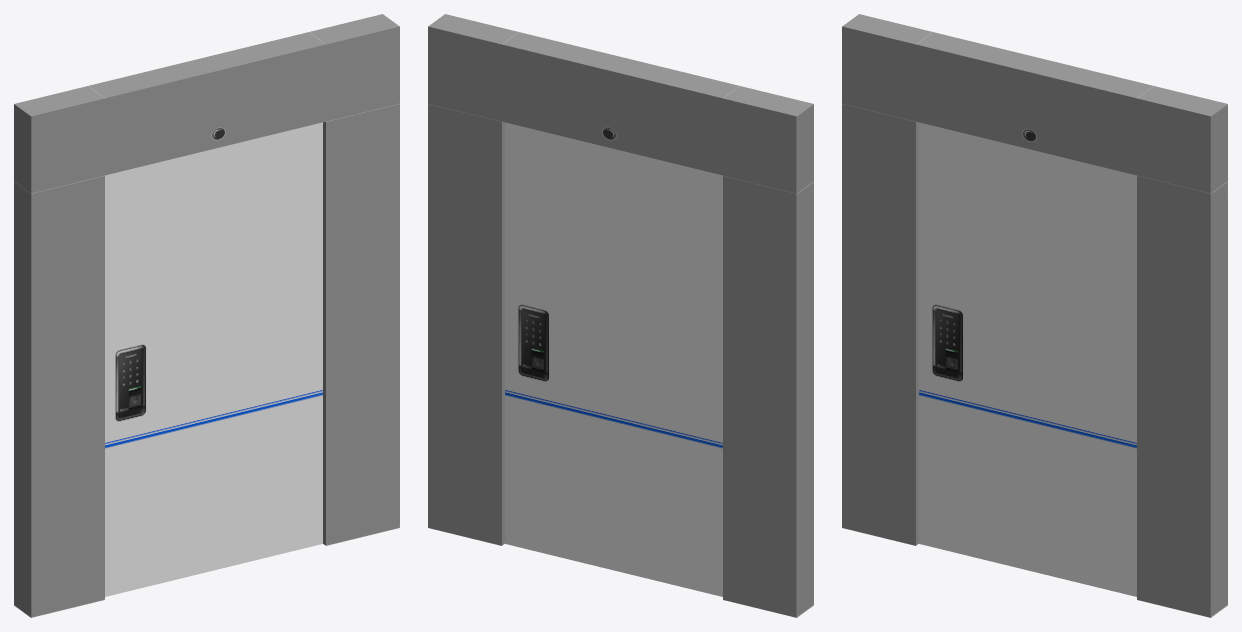
File: Door_Set.fbx
3 renders of one model, left to right at view 1: azimuth 30°, elevation 25°; view 2: azimuth 150°, elevation 25°; view 3: azimuth 330°, elevation 25°, orthographic.
Visible parts, largest first — view 1: DoorFrame, Door; view 2: DoorFrame, Door; view 3: DoorFrame, Door.
Boxes of the visible parts, <box> form: DoorFrame: <box>14,14,399,617</box>; Door: <box>105,122,322,596</box>; DoorFrame: <box>428,14,813,617</box>; Door: <box>505,122,722,596</box>; DoorFrame: <box>842,14,1227,617</box>; Door: <box>919,122,1136,596</box>.
Size of the model in its own units: 1.88 by 2.44 by 0.15.
